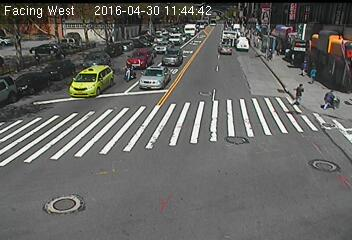neg: (213, 97, 245, 139), (266, 157, 298, 199), (39, 70, 68, 107), (173, 97, 198, 131), (30, 127, 54, 158), (185, 34, 205, 61), (74, 110, 94, 136), (138, 152, 157, 178), (217, 39, 236, 65), (136, 66, 155, 91), (105, 143, 121, 165), (188, 170, 204, 191), (118, 65, 131, 82), (69, 31, 81, 47)
pos: (289, 78, 309, 105), (321, 86, 341, 112)
